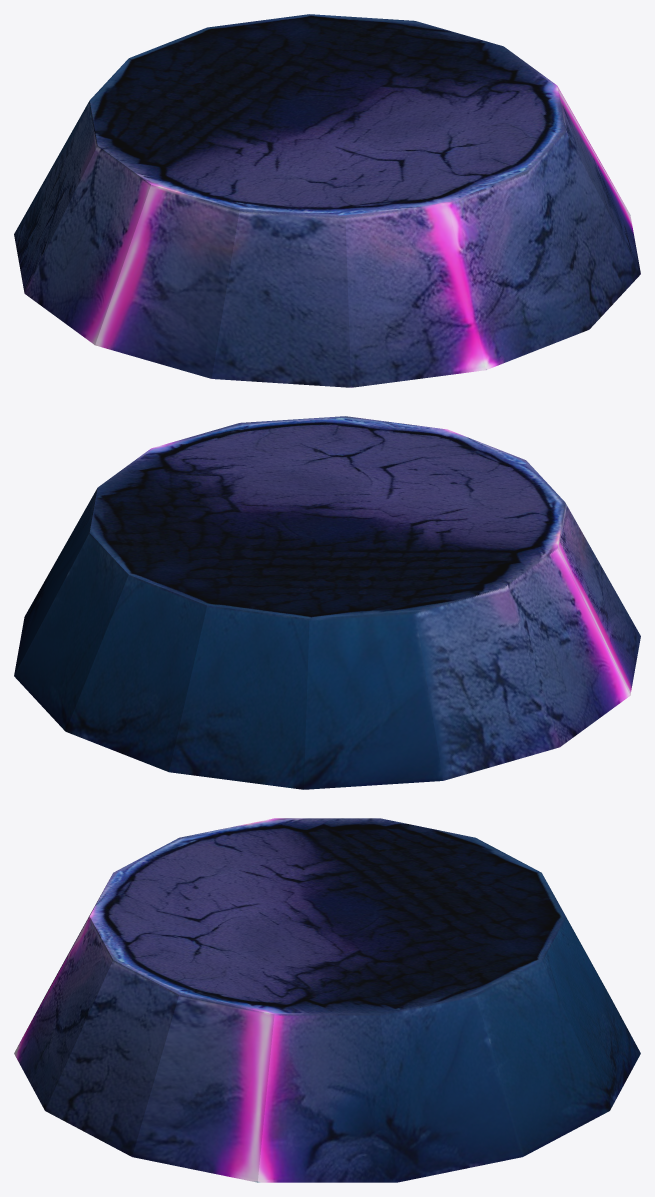
File: shore-stone-4-texture-wrap-2026-05-15T02-15-19-759Z.glb
3 renders of one model, top to bottom at view 1: azimuth 30°, elevation 25°; view 2: azimuth 150°, elevation 25°; view 3: azimuth 270°, elevation 25°, orthographic.
Visible parts, largest first — view 1: GLTF; view 2: GLTF; view 3: GLTF.
Boxes of the visible parts, <box> form: GLTF: <box>14,14,640,387</box>; GLTF: <box>14,416,640,789</box>; GLTF: <box>14,818,640,1182</box>.
Bounding box in the file's own units: 15.57 × 3.86 × 15.97.
1 material, 1 textured.
